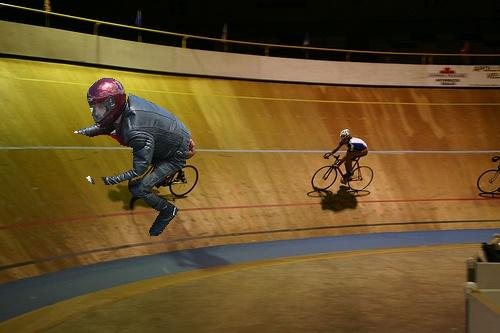tampered: (75, 78, 191, 236)
